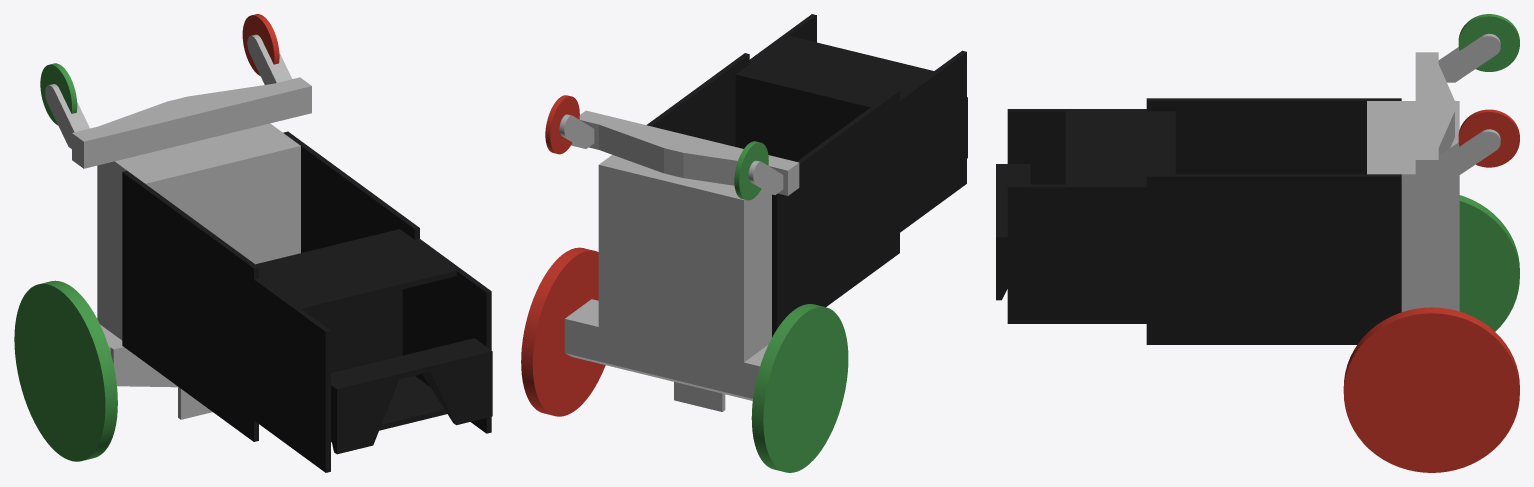
The model's file is robot.fbx.
The picture shows the model from 3 angles, left to right: view 1: azimuth 30°, elevation 25°; view 2: azimuth 150°, elevation 25°; view 3: azimuth 270°, elevation 25°; orthographic projection. The views are drawn at different scales.
Parts seen in each view (by area): view 1: Body11, Body1, Body14, Body4, Body13, Body15, Body5, Body10, Body12, Body16, Body8, Body6 (+2 smaller); view 2: Body1, Body11, Body14, Body4, Body13, Body3, Body2, Body5, Body10, Body7, Body9, Body16 (+3 smaller); view 3: Body10, Body3, Body12, Body11, Body1, Body14, Body4, Body5, Body13, Body15, Body7, Body9 (+2 smaller).
Boxes of the visible parts, x1,y1,x2,y2 form: Body11: [122, 170, 258, 441]; Body1: [97, 123, 300, 340]; Body14: [255, 229, 456, 442]; Body4: [14, 280, 117, 461]; Body13: [254, 278, 330, 472]; Body15: [331, 338, 492, 454]; Body5: [72, 77, 311, 168]; Body10: [283, 131, 419, 355]; Body12: [414, 239, 491, 433]; Body16: [110, 344, 212, 419]; Body8: [45, 84, 89, 148]; Body6: [247, 34, 291, 84]; Body1: [598, 155, 771, 362]; Body11: [772, 89, 899, 337]; Body14: [735, 35, 933, 161]; Body4: [751, 304, 848, 472]; Body13: [900, 50, 966, 232]; Body3: [521, 247, 605, 416]; Body2: [564, 299, 767, 400]; Body5: [579, 110, 799, 195]; Body10: [646, 53, 749, 146]; Body7: [545, 95, 579, 154]; Body9: [734, 141, 768, 200]; Body16: [674, 382, 725, 411]; Body10: [1146, 174, 1401, 344]; Body3: [1343, 307, 1519, 472]; Body12: [1007, 184, 1146, 323]; Body11: [1146, 98, 1401, 174]; Body1: [1367, 101, 1459, 311]; Body14: [1065, 111, 1175, 184]; Body4: [1459, 195, 1519, 331]; Body5: [1415, 52, 1454, 186]; Body13: [1007, 109, 1146, 184]; Body15: [996, 164, 1030, 300]; Body7: [1458, 109, 1519, 167]; Body9: [1458, 14, 1519, 71].
Size of the model in its own units: 250 by 332 by 452.
